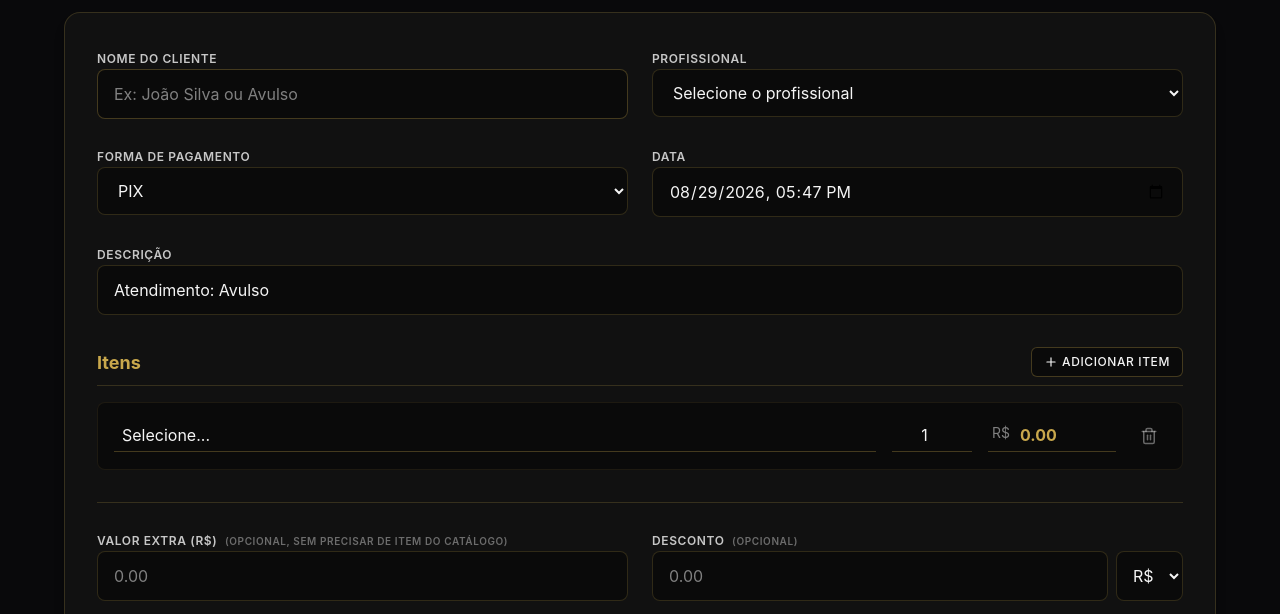
Test: Página de Transações › deve permitir adicionar múltiplos itens e calcular o total
This screenshot has width=1280, height=614.
Seleciona profissional
Select "Admin Batista" in the dropdown below "Profissional": [918, 93] box [652, 69, 1183, 117]
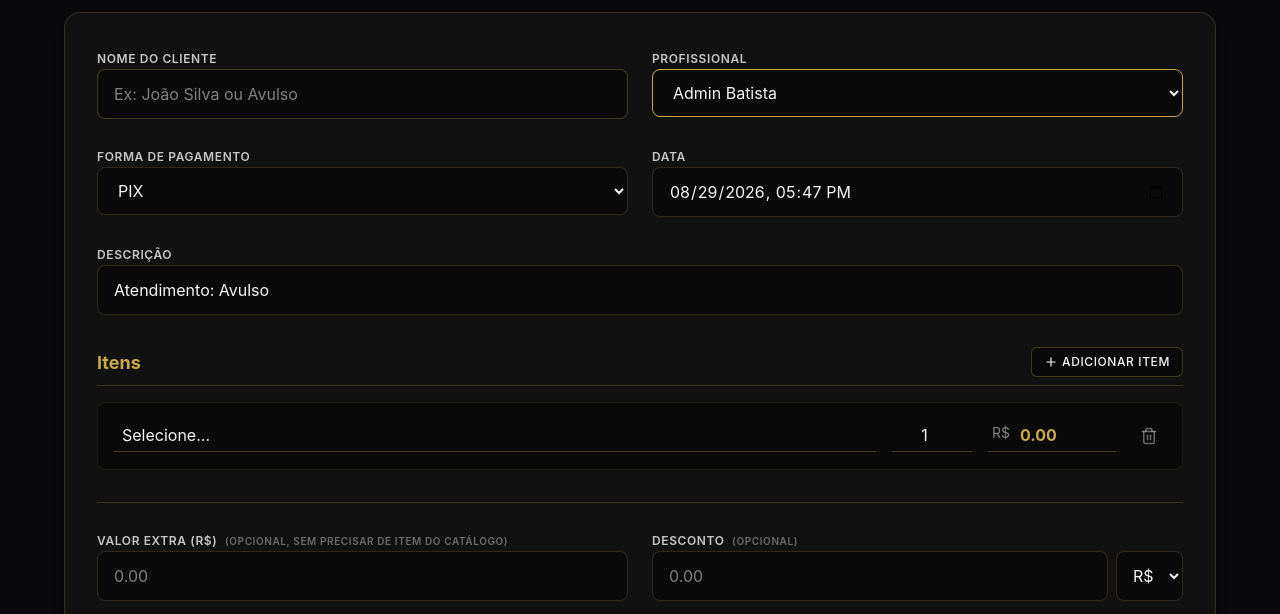
Seleciona "Corte"
Select "Corte" in the dropdown below "Itens": [495, 436] box [114, 419, 876, 452]
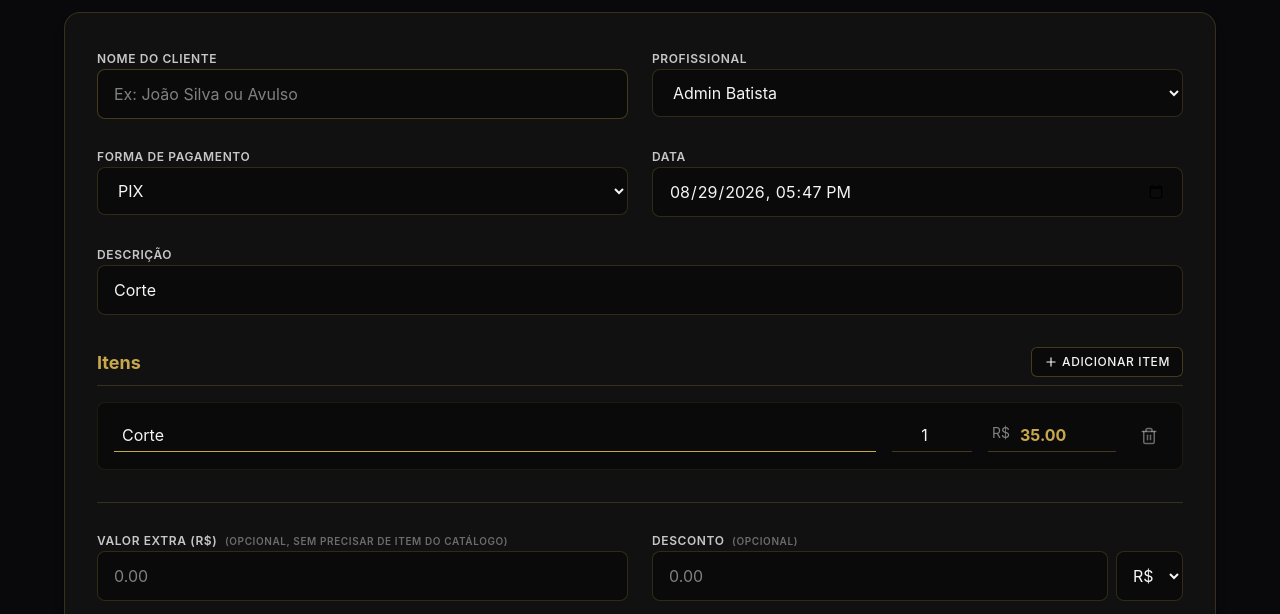
Clica em "Adicionar Item"
Click the button "Adicionar Item": [1107, 362] box [1031, 347, 1183, 377]
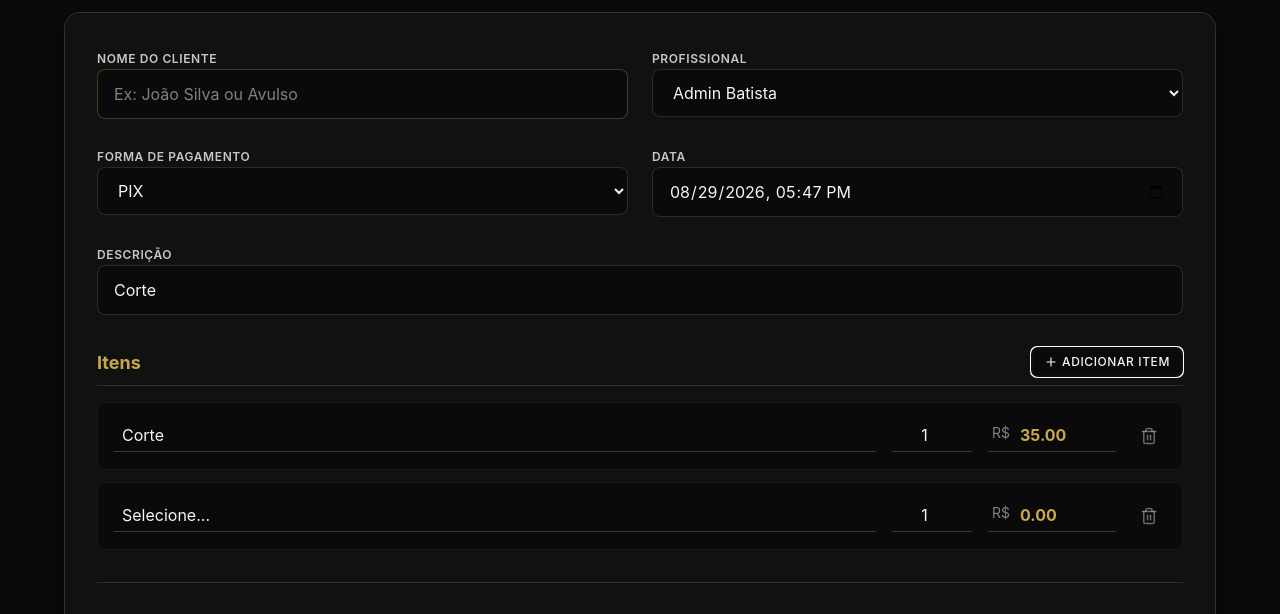
Check: the number of dropdowns is 5
Seleciona "Pomada"
Select "Pomada" in the 4th dropdown: [495, 516] box [114, 499, 876, 532]
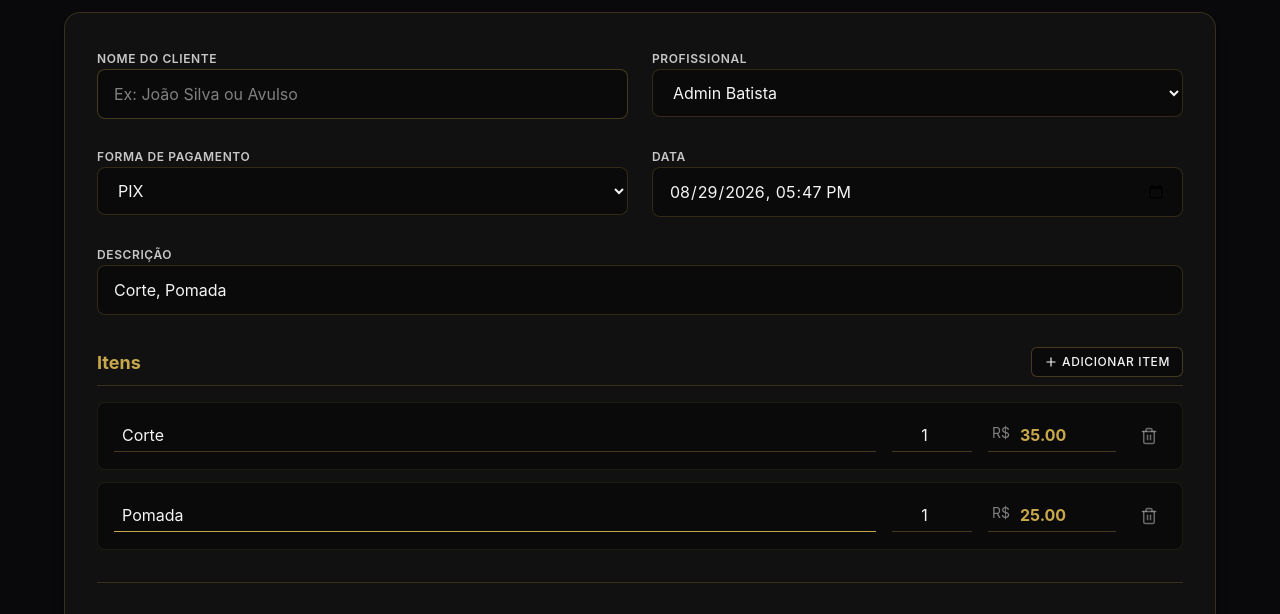
Replace the text in the 2nd number field with "2": [932, 516] box [892, 499, 972, 532]
(page scrolled)
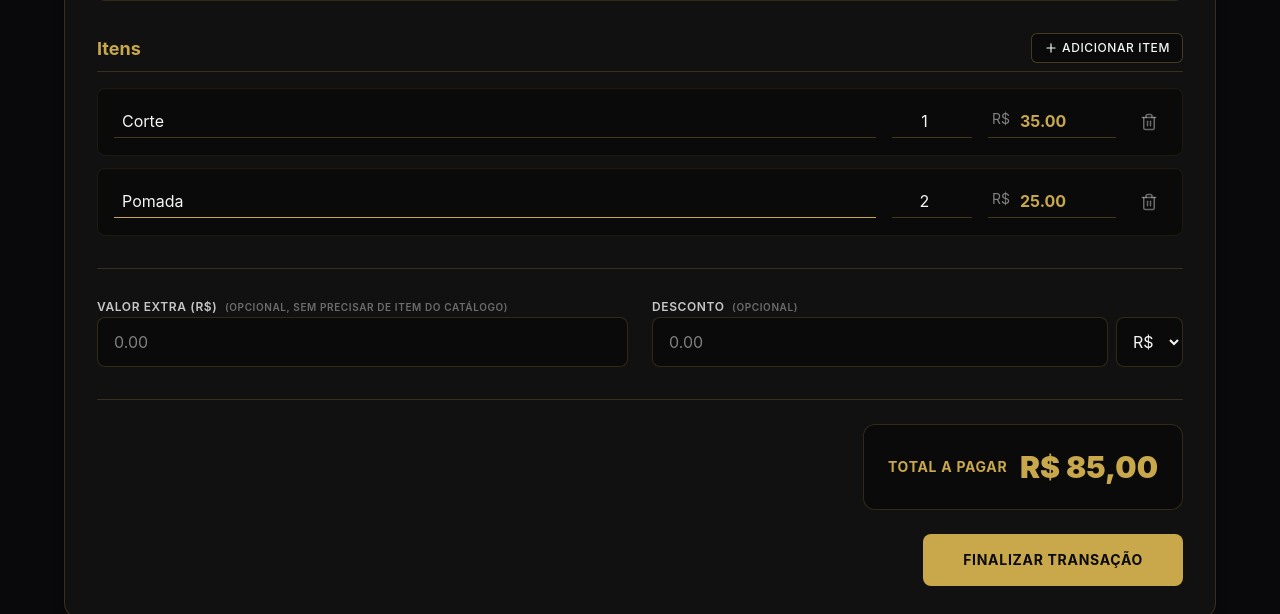
Check: the text "R$ 85,00" is shown, box [1020, 449, 1158, 485]
